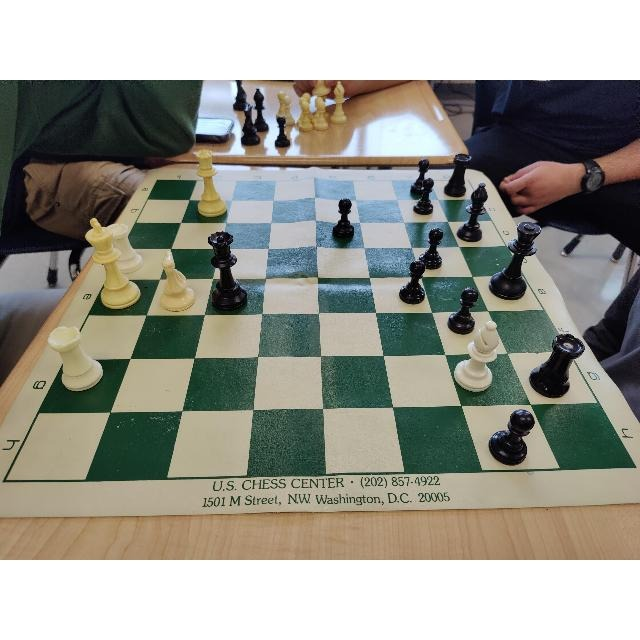black-bishop: (458, 182, 488, 243)
black-king: (490, 221, 540, 302)
black-pawn: (489, 410, 535, 466), (447, 288, 478, 334), (398, 260, 426, 305), (332, 199, 355, 241), (420, 228, 443, 270), (414, 180, 434, 214), (410, 159, 429, 194)
black-queen: (208, 232, 248, 312)
black-rook: (529, 334, 585, 397), (444, 154, 472, 196)
white-bishop: (455, 319, 500, 394)
white-king: (86, 220, 142, 308)
white-knight: (159, 250, 197, 313)
white-queen: (195, 149, 227, 218)
white-rook: (47, 324, 105, 392), (107, 222, 143, 273)
